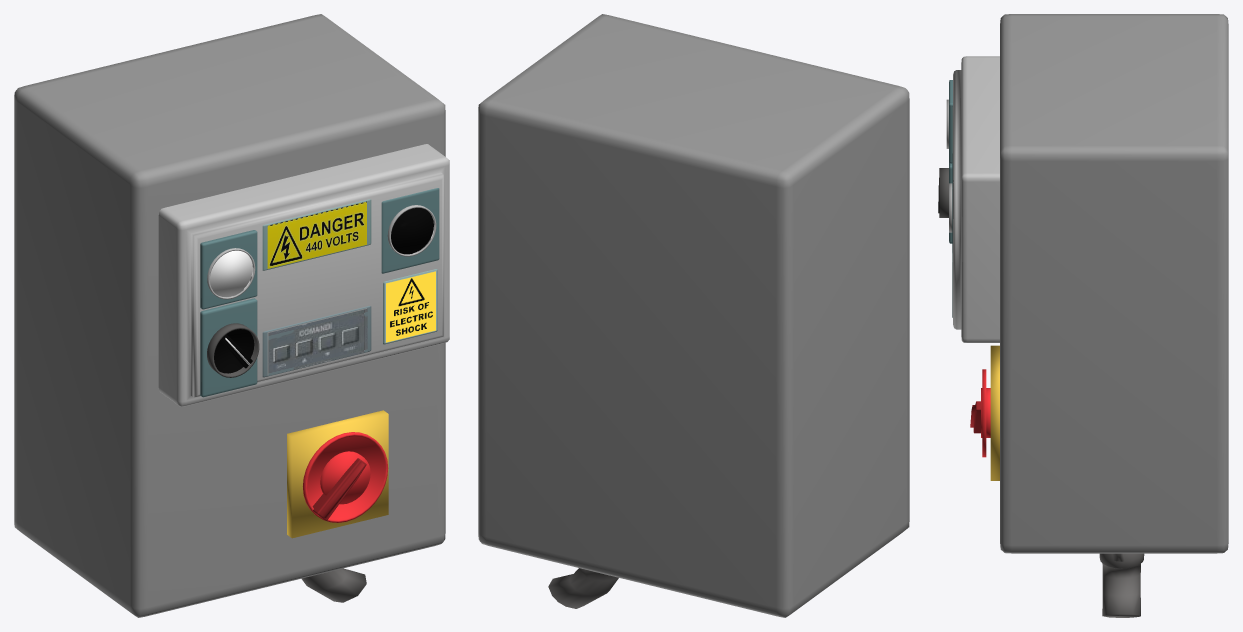
Rendered from eletric_command.gltf.
3 views of the same model, side by side, from view 1: azimuth 30°, elevation 25°; view 2: azimuth 150°, elevation 25°; view 3: azimuth 270°, elevation 25° (orthographic). The views are drawn at different scales.
Parts seen in each view (by area): view 1: Cube.009; view 2: Cube.009; view 3: Cube.009.
Boxes of the visible parts, x1,y1,x2,y2 form: Cube.009: (14, 14, 449, 617); Cube.009: (478, 14, 909, 617); Cube.009: (938, 14, 1228, 617).
Size of the model in its own units: 1 by 1.64 by 0.8839.
Materials: 16 (16 with a texture image).
